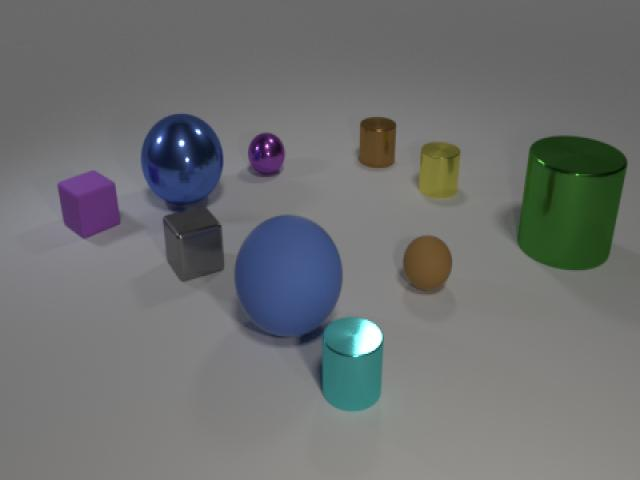cylinder: (507, 123, 634, 278), (318, 312, 389, 416), (413, 134, 468, 207), (352, 108, 402, 173)
round ball: (237, 214, 343, 340), (139, 114, 225, 209), (398, 229, 458, 298), (245, 126, 290, 182)
